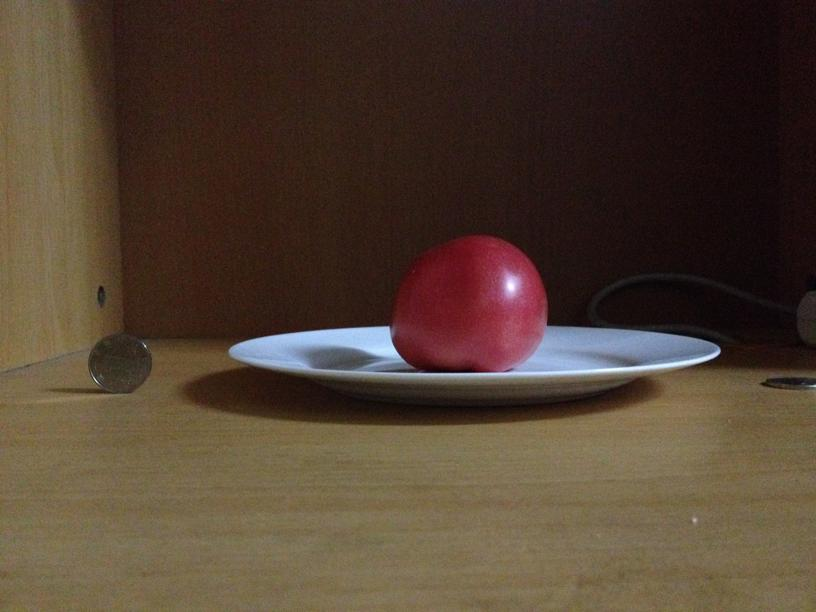coin: (83, 334, 153, 394)
tomato: (382, 231, 547, 372)
